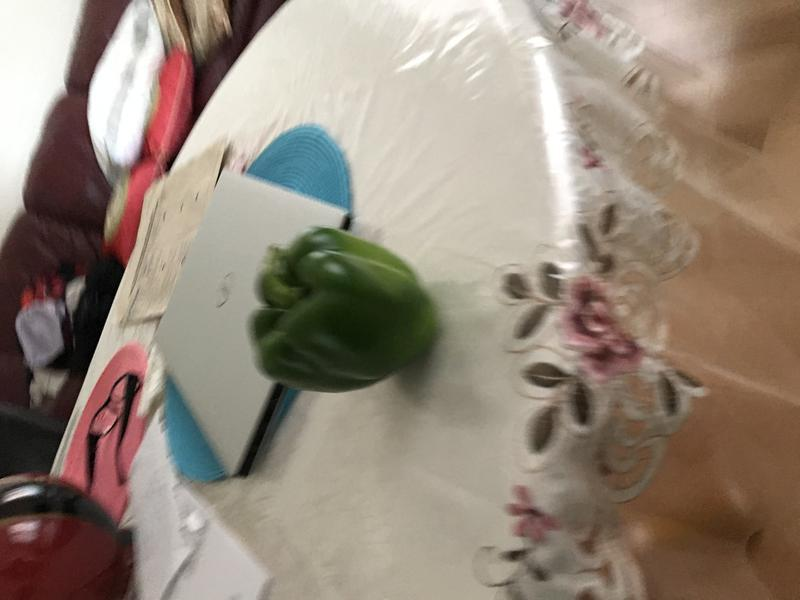green_pepper: (238, 222, 447, 394)
